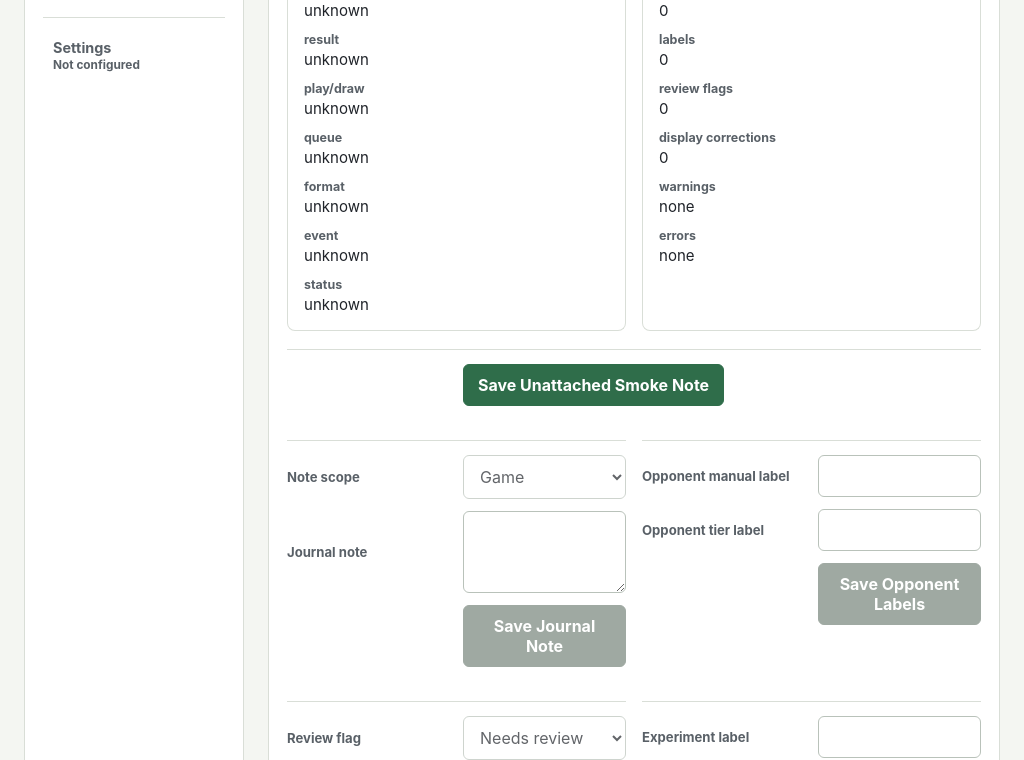
SetupStatusApp › submits and reloads a no-context unattached smoke note without parser identity
(page scrolled)
expect the button "Save Journal Note" is disabled: met, box [463,605,626,667]
expect the button "Save Opponent Labels" is disabled: met, box [818,563,981,625]
Click the button "Save Unattached Smoke Note" at (594, 385), box [463,364,724,406]
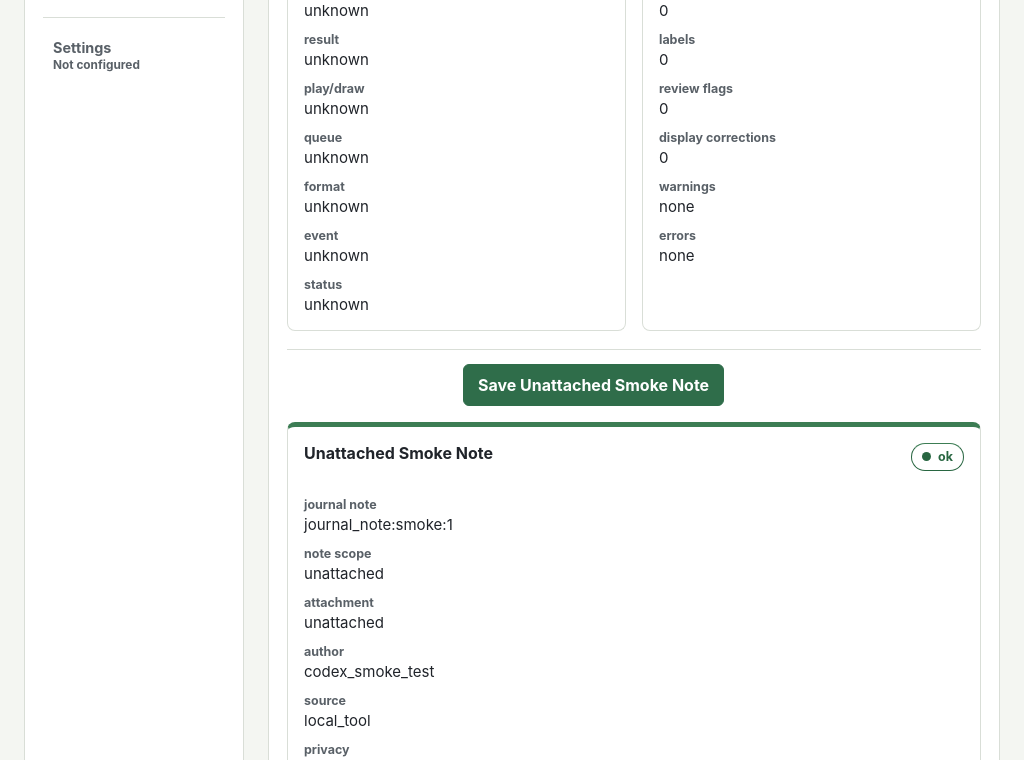
expect the heading "Unattached Smoke Note" is shown: met, box [304,443,493,463]
